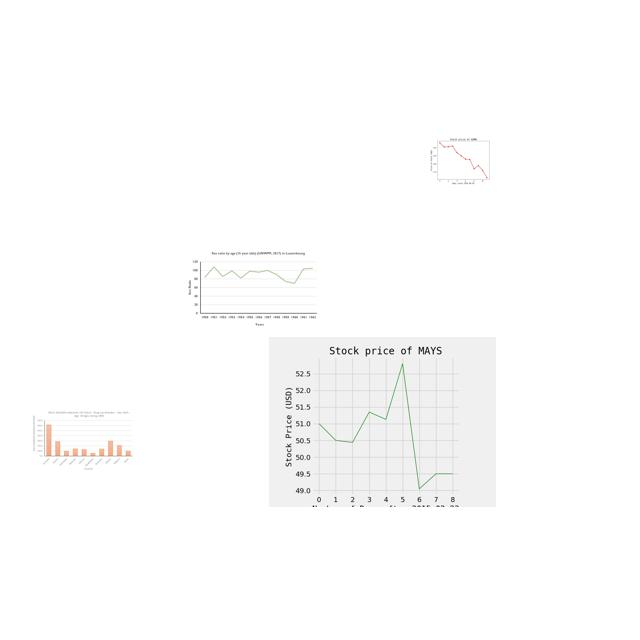Graph: (269, 337, 496, 507), (185, 247, 323, 329), (32, 410, 134, 472), (429, 135, 496, 185)
